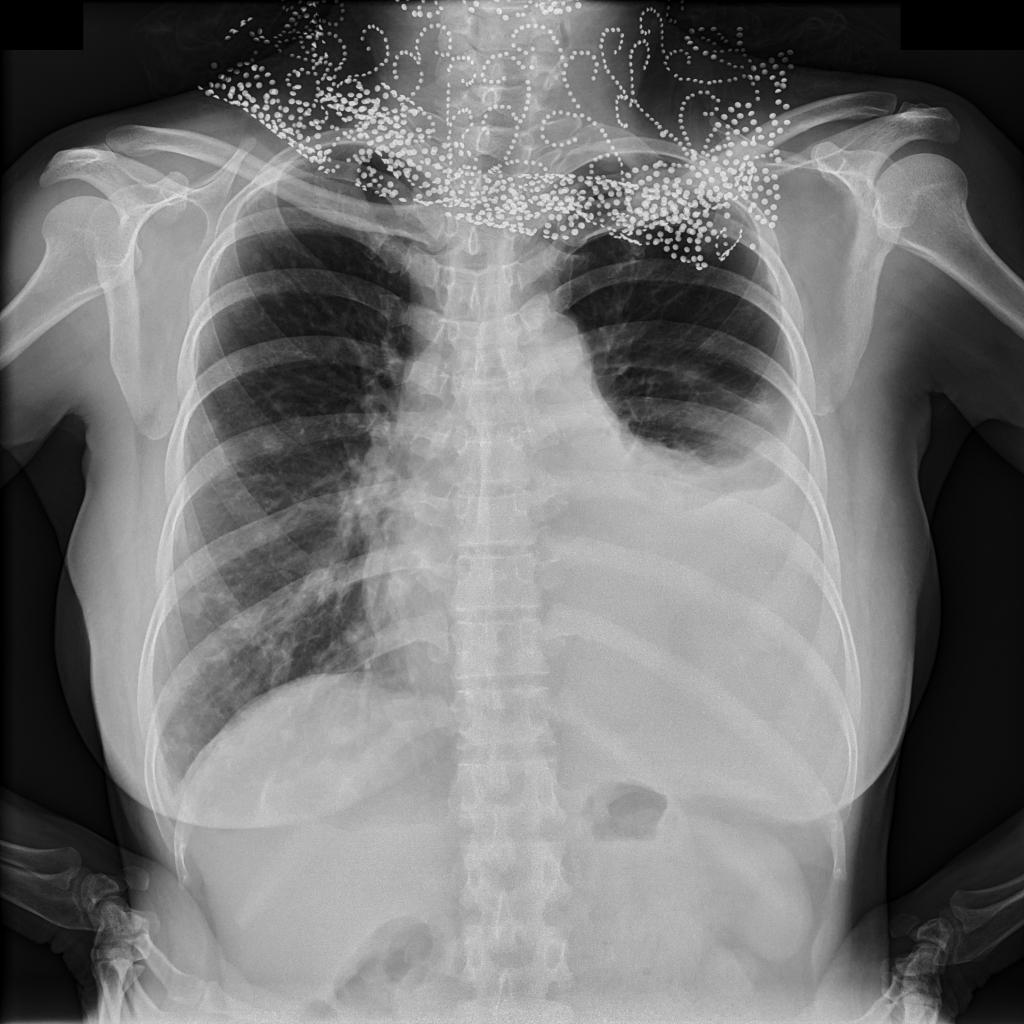Nodule: (202, 420, 221, 436), (264, 440, 285, 454)
